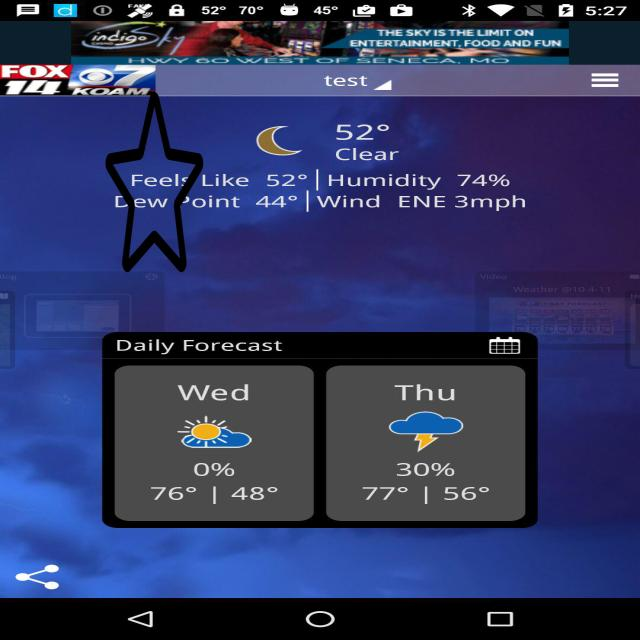forced continuity: (105, 88, 204, 276)
